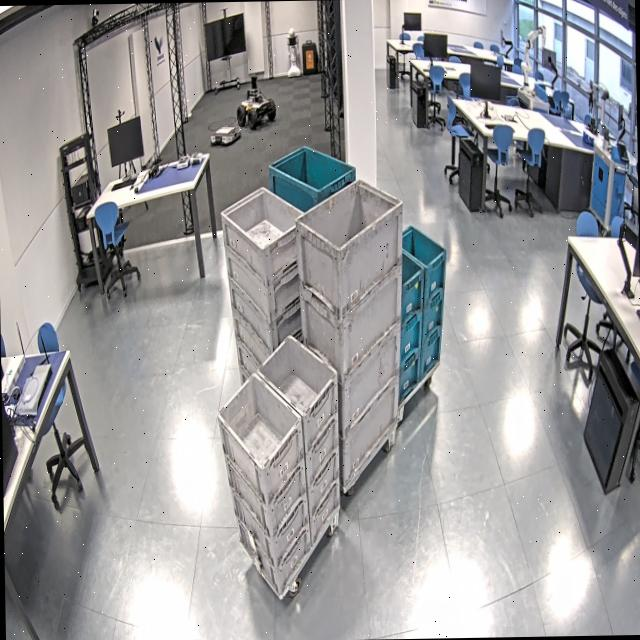Box3G: (218, 185, 307, 284), (222, 243, 308, 321), (228, 274, 302, 352), (231, 304, 311, 368)
Box4G: (294, 174, 404, 314), (300, 269, 408, 384), (331, 320, 402, 436), (334, 378, 403, 486)
Box8G: (216, 370, 306, 508), (255, 334, 338, 452), (234, 516, 314, 598), (224, 454, 306, 528), (228, 492, 308, 560), (298, 414, 340, 480), (300, 447, 340, 514), (302, 478, 341, 545)
BoxB4: (268, 146, 358, 215)
BoxB8: (399, 226, 447, 311), (394, 249, 424, 310), (419, 320, 443, 384), (419, 288, 446, 342), (396, 344, 420, 402), (396, 304, 420, 356)
